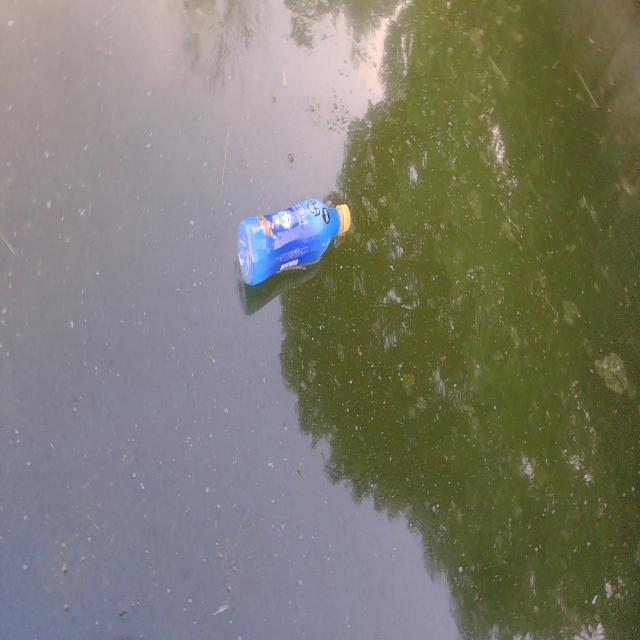bottle: (219, 168, 363, 308)
